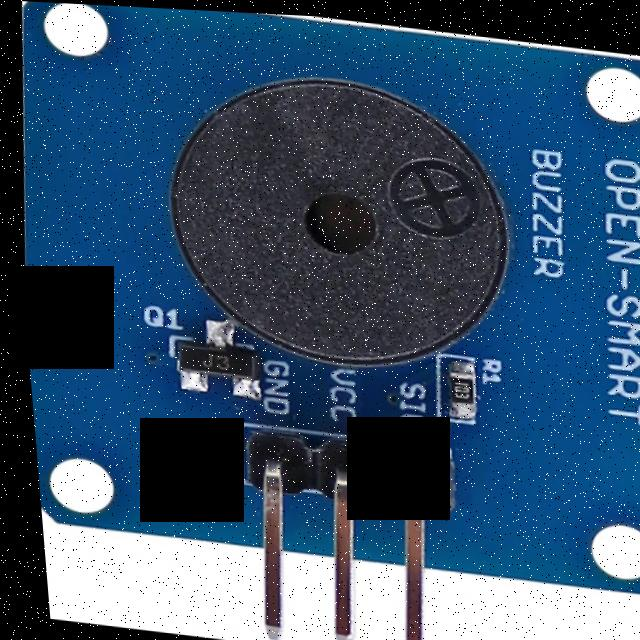4439: (153, 321, 256, 391)
buzzer: (153, 59, 520, 370)
connector -5v-: (213, 419, 459, 640)
resistor IR1: (430, 355, 473, 412)
